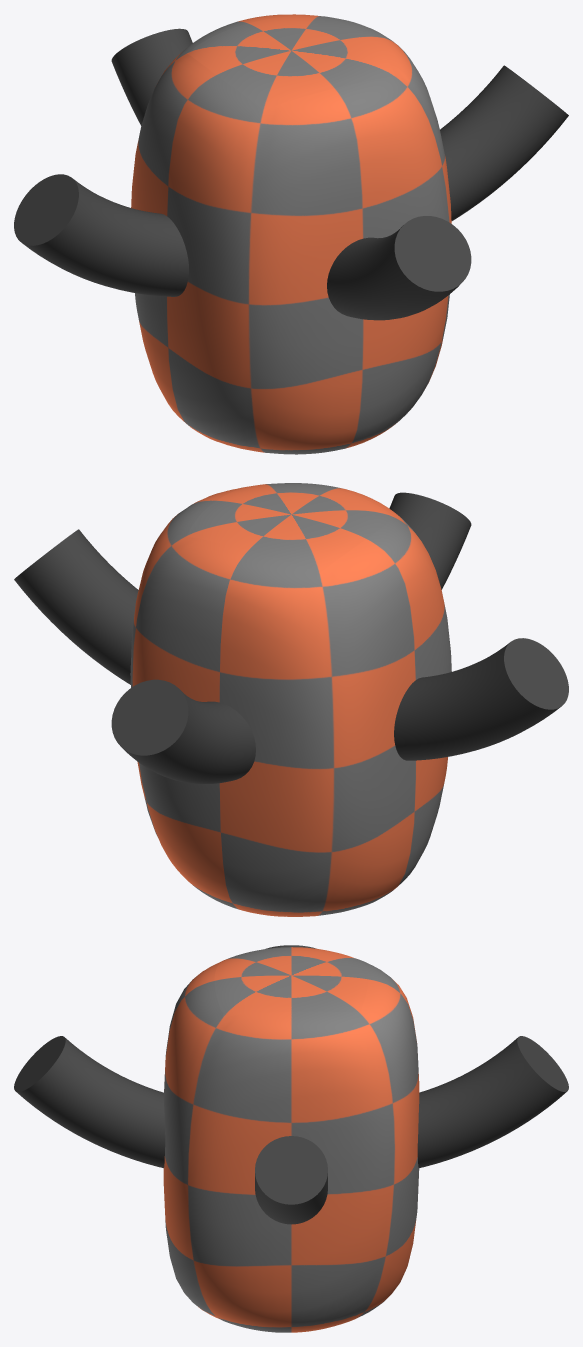
The model's file is Body(Oblong)+Colour(More_Orange)+Pattern(Checkered)+Arm_Angle(Bent_Up).fbx.
The picture shows the model from 3 angles, top to bottom: view 1: azimuth 30°, elevation 25°; view 2: azimuth 150°, elevation 25°; view 3: azimuth 270°, elevation 25°; orthographic projection. The views are drawn at different scales.
Visible parts, largest first — view 1: Body(Oblong)+Colour(More_Orange)+Pattern(Checkered)+Arm_Angl (×5); view 2: Body(Oblong)+Colour(More_Orange)+Pattern(Checkered)+Arm_Angl (×5); view 3: Body(Oblong)+Colour(More_Orange)+Pattern(Checkered)+Arm_Angl (×4).
Boxes of the visible parts, x1=… form: Body(Oblong)+Colour(More_Orange)+Pattern(Checkered)+Arm_Angl (×5): x1=14, y1=14, x2=568, y2=454; Body(Oblong)+Colour(More_Orange)+Pattern(Checkered)+Arm_Angl (×5): x1=14, y1=483, x2=568, y2=916; Body(Oblong)+Colour(More_Orange)+Pattern(Checkered)+Arm_Angl (×4): x1=14, y1=947, x2=568, y2=1332.
Bounding box in the file's own units: 60.67 × 40 × 60.67.
2 materials, 2 textured.
